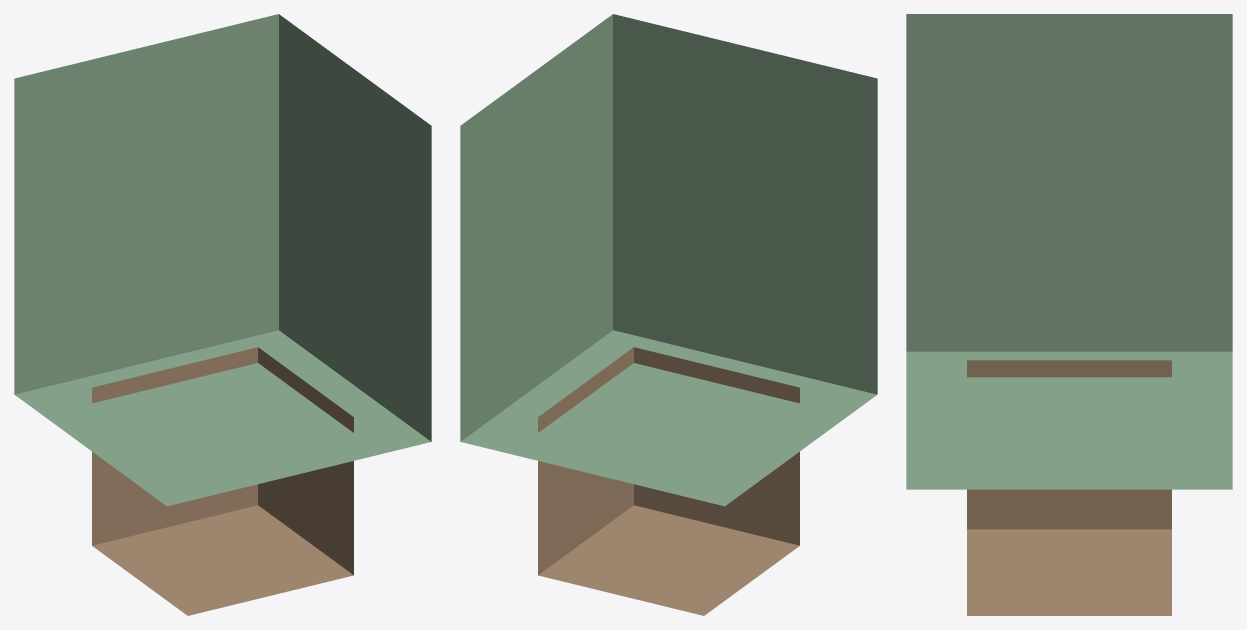
Rendered from plant_potted.gltf.
The picture shows the model from 3 angles, left to right: view 1: azimuth 30°, elevation 25°; view 2: azimuth 150°, elevation 25°; view 3: azimuth 270°, elevation 25°; orthographic projection. The views are drawn at different scales.
Parts seen in each view (by area): view 1: plant_potted; view 2: plant_potted; view 3: plant_potted.
Part boxes in pixels (box(x1,y1,x2,y2)): plant_potted: box(14, 14, 431, 615); plant_potted: box(460, 14, 877, 615); plant_potted: box(906, 14, 1232, 615).
Size of the model in its own units: 0.35 by 0.58 by 0.35.
